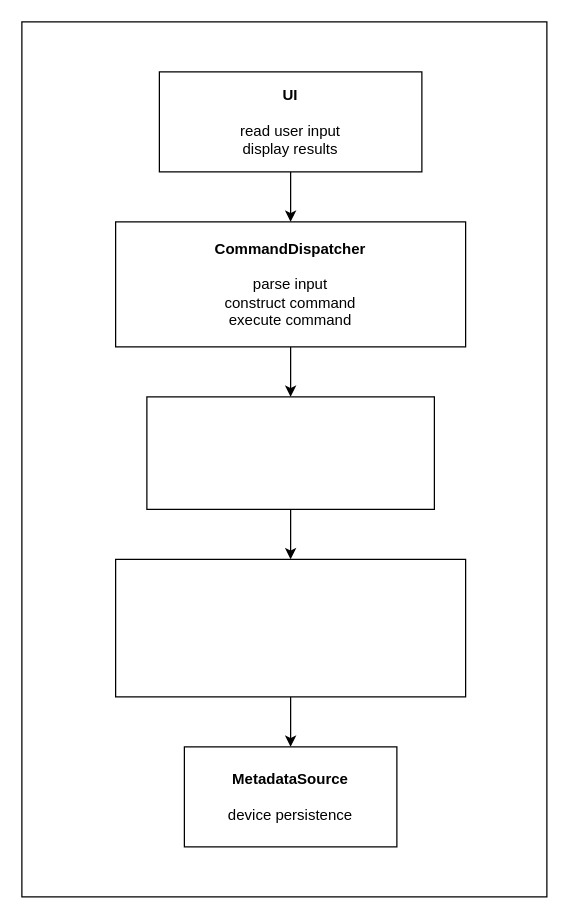
The diagram is 569 pixels wide and 919 high, and some of its shapes have lost their labels. The centre of each missing label's shape, as x and y in pixels:
Command command-specific application logic: [290,452]
RemarkableDataRepository In-memory state metadata operations: [290,627]
